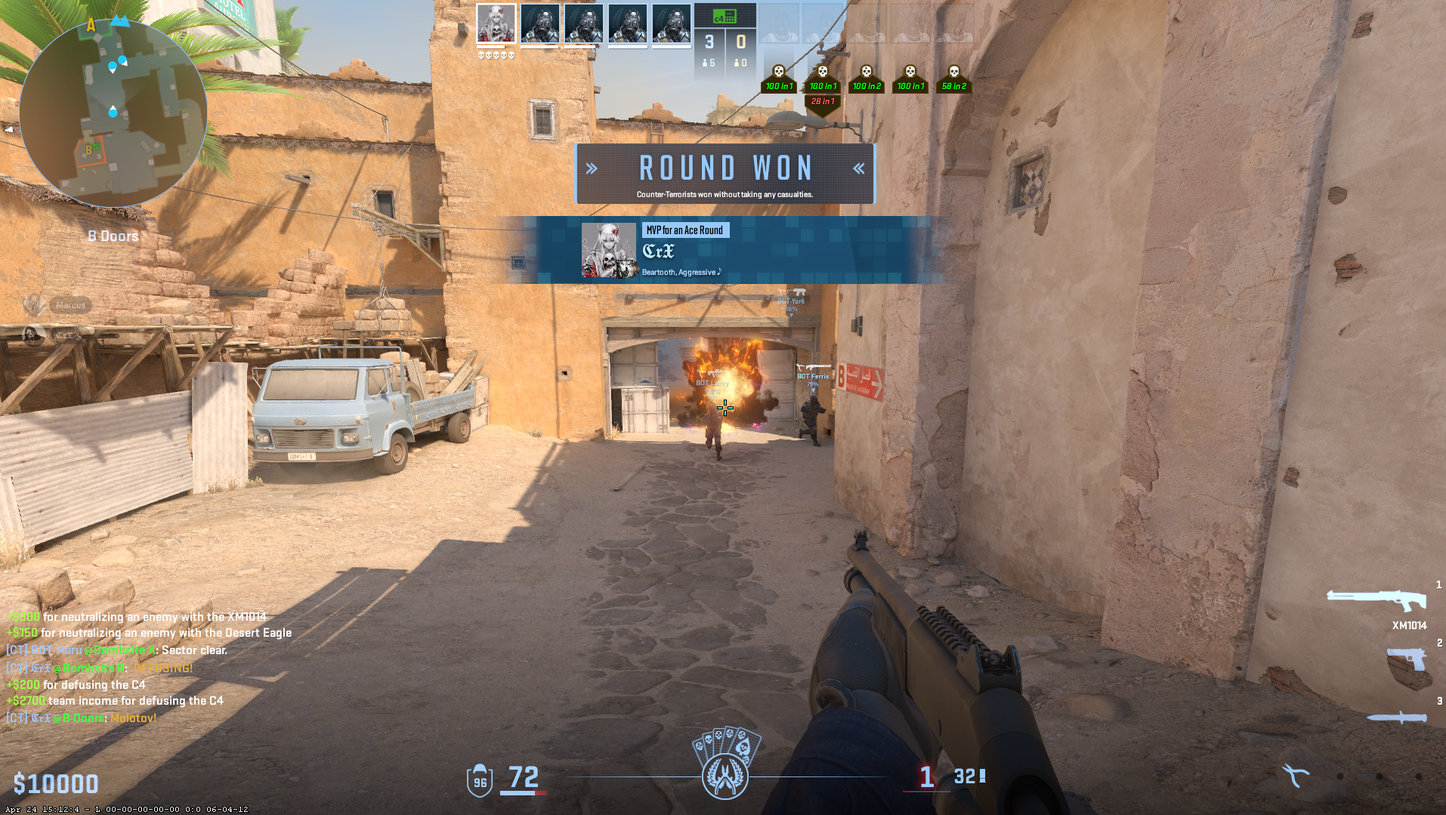CT: (800, 396, 825, 447), (704, 403, 722, 460)
